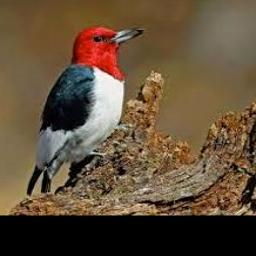Woodpecker: (26, 26, 143, 197)
